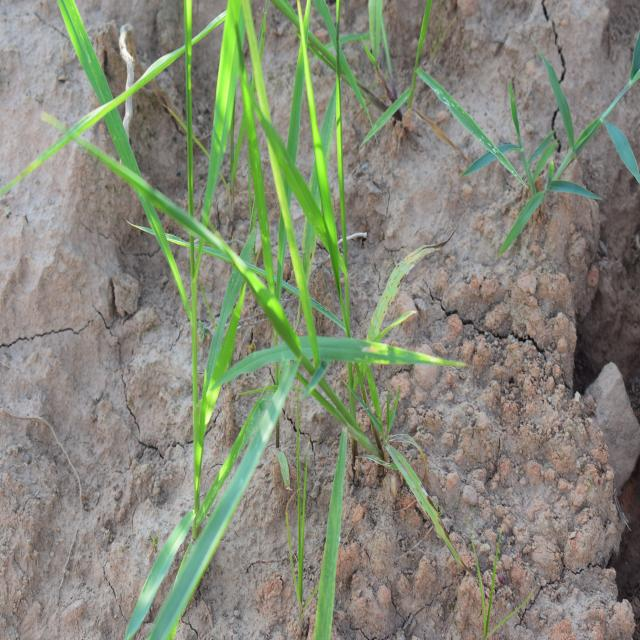green_foxtail: (173, 91, 396, 477)
